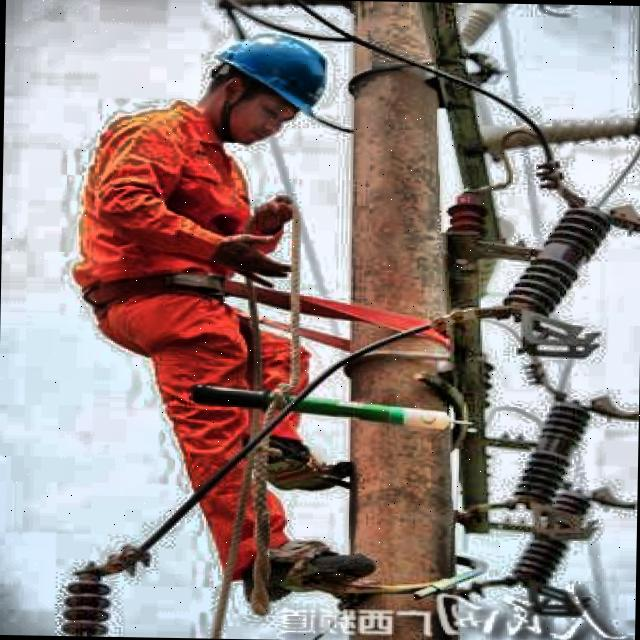helmet: (186, 18, 357, 150)
